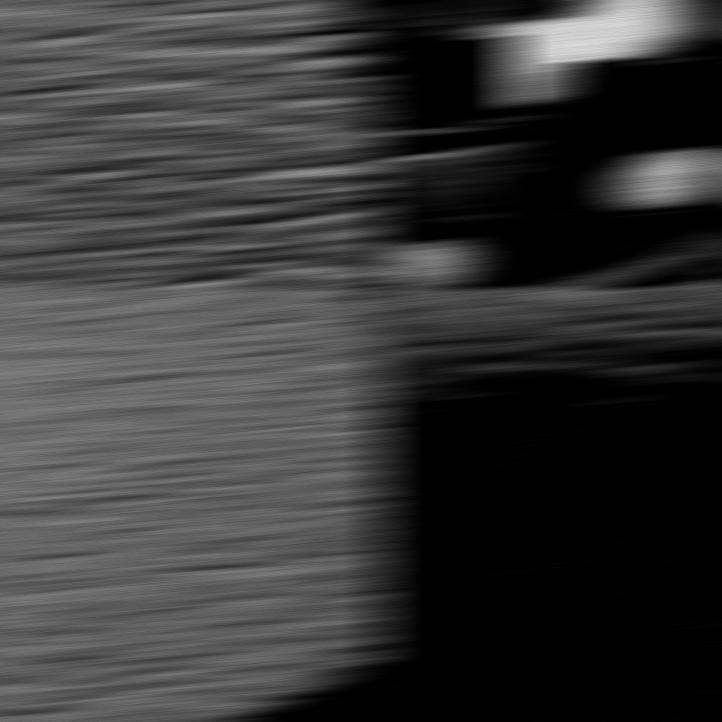Airbag: (0, 288, 392, 721), (372, 288, 722, 721), (0, 0, 392, 287), (372, 0, 722, 287)
